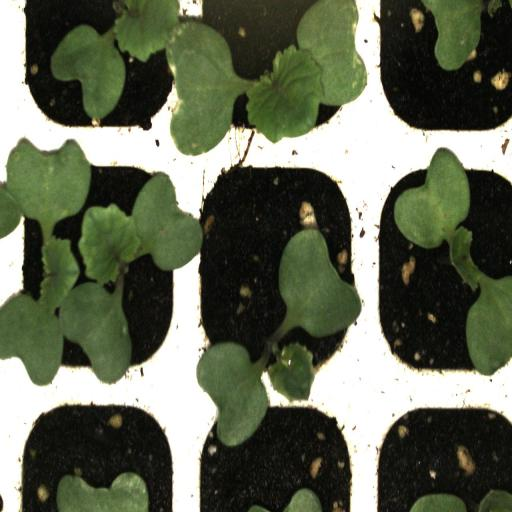seedling: (188, 144, 368, 390), (367, 141, 512, 389), (188, 0, 369, 148), (8, 1, 188, 145)
twoseedling: (8, 143, 188, 385)
